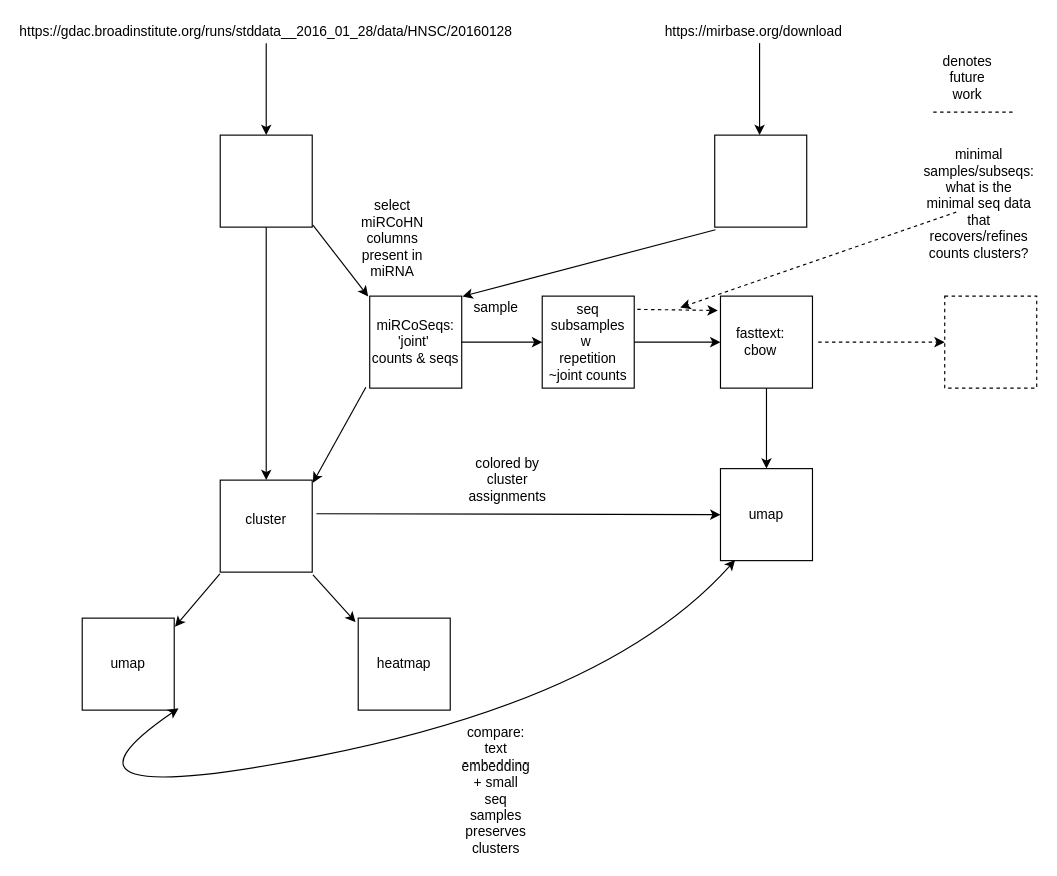
Image size: 1057x876. Some labels were removed from this diagram. The shapes that lost their labels are listed below. From the top down, each one's centre as x and y in pixels, then its label:
At (x=265, y=180): "miRCoHN: expression counts".
At (x=760, y=180): "miRNA: seqs".
At (x=990, y=341): "clustering".
